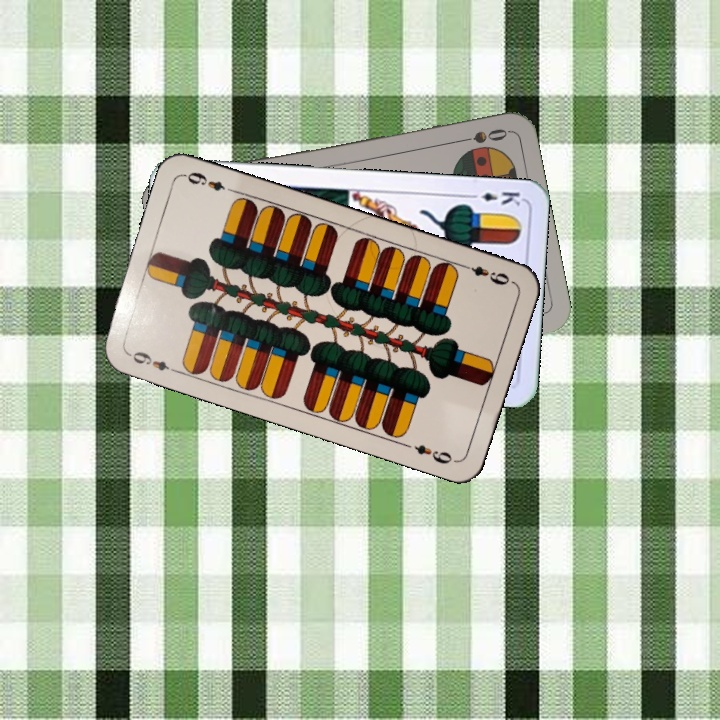E9: (124, 347, 181, 376), (458, 260, 516, 288)
EK: (464, 188, 523, 208)
SO: (451, 124, 510, 146)
